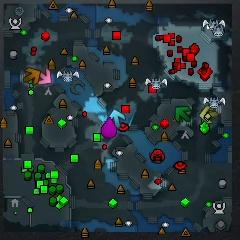p3: (100, 118, 117, 138)
x1: (37, 68, 52, 85)
x2: (199, 106, 217, 124)
x3: (109, 110, 125, 128)
x4: (175, 106, 191, 123)
x5: (24, 68, 40, 84)
